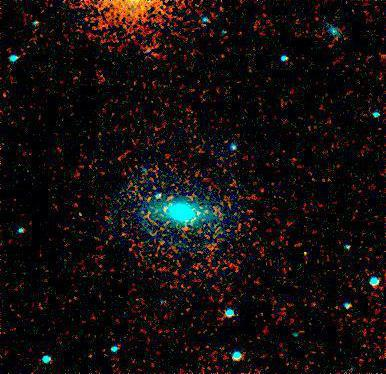star: (291, 239, 321, 269)
